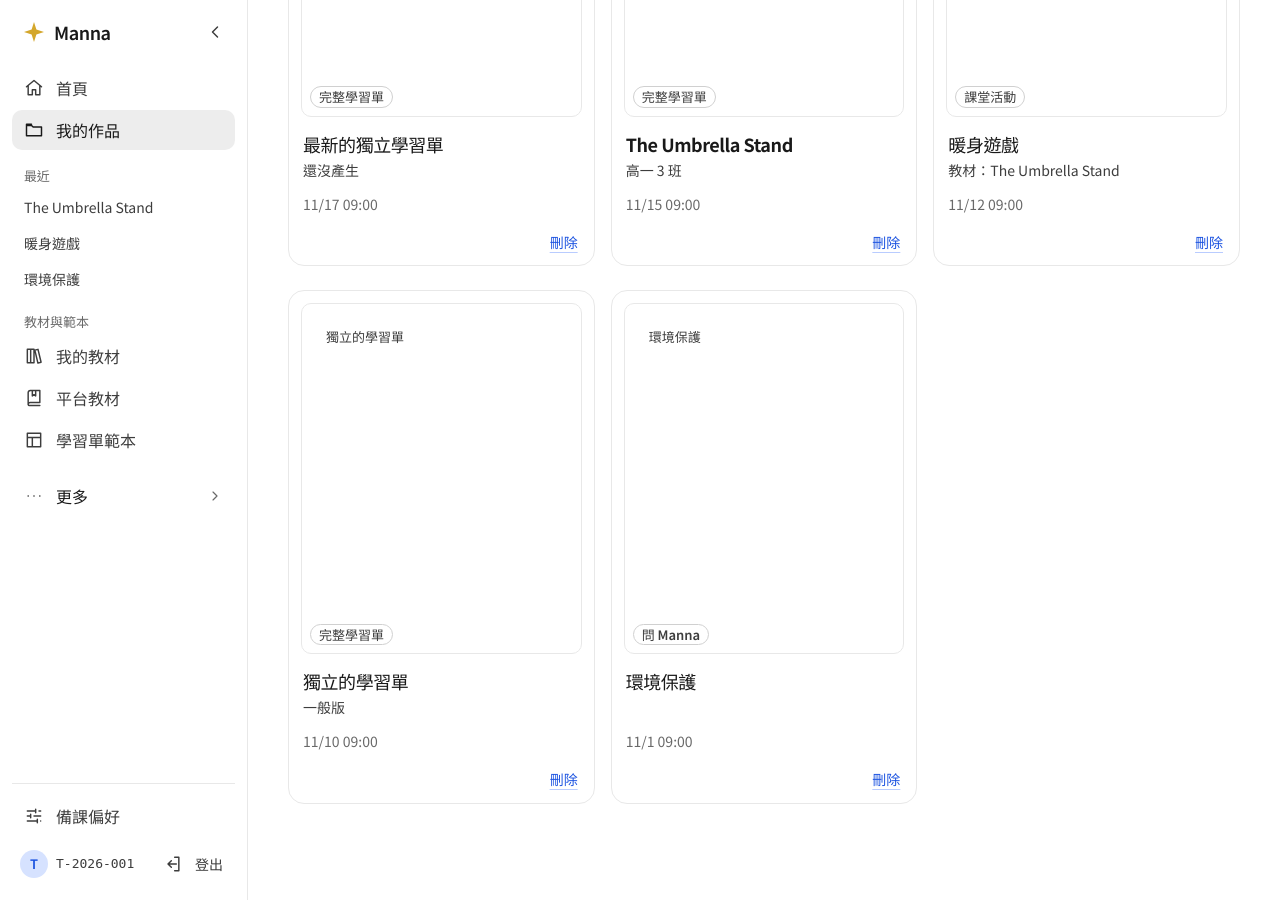
我的作品 › moves focus through the delete confirmation and says a failed delete in the row
(page scrolled)
Click the button with aria-label "刪除 獨立的學習單". click: (564, 780)
box: [550,769,578,791]
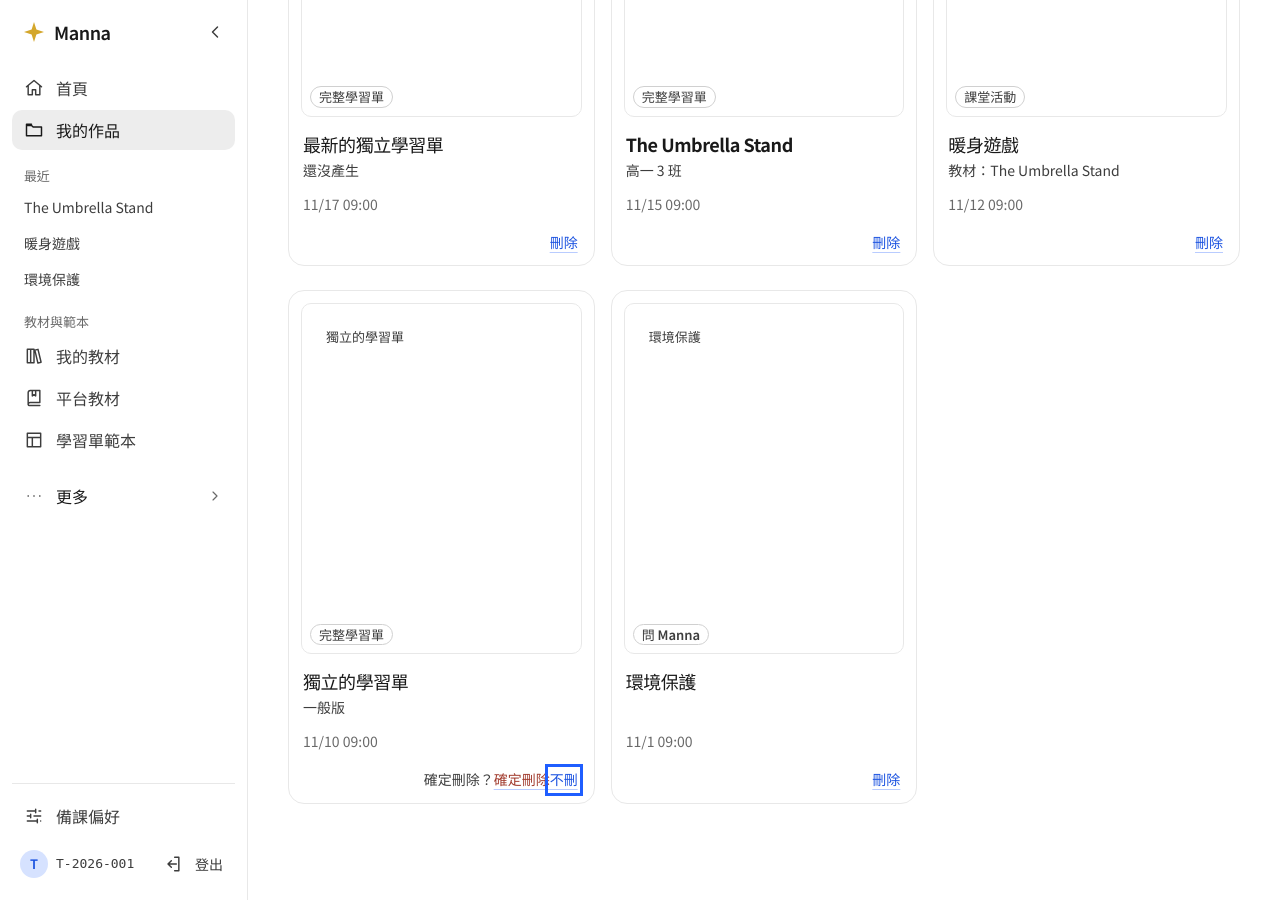
Click the button "不刪". click: (564, 780)
box: [550,769,578,791]
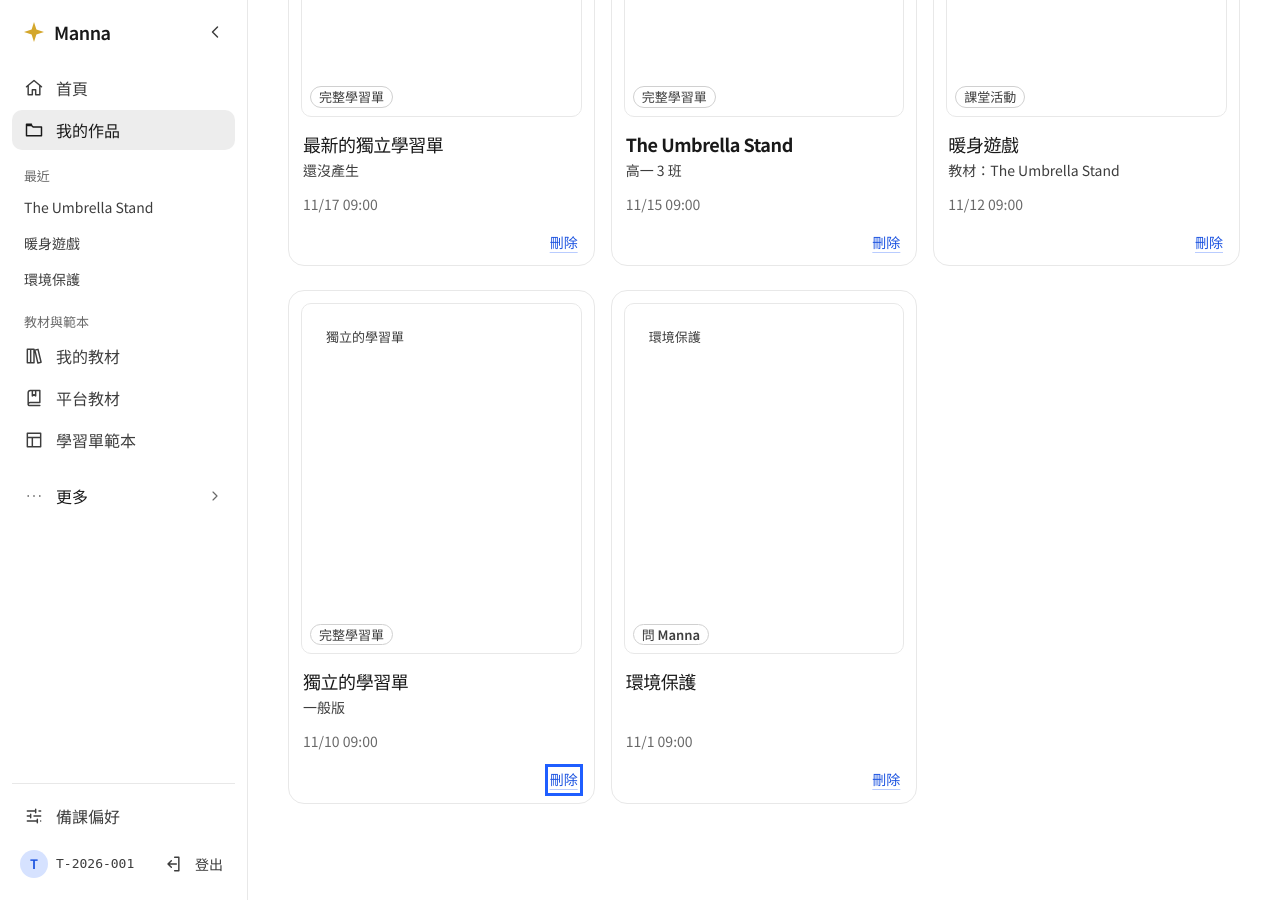
Click the button with aria-label "刪除 獨立的學習單". click: (564, 780)
box: [550,769,578,791]
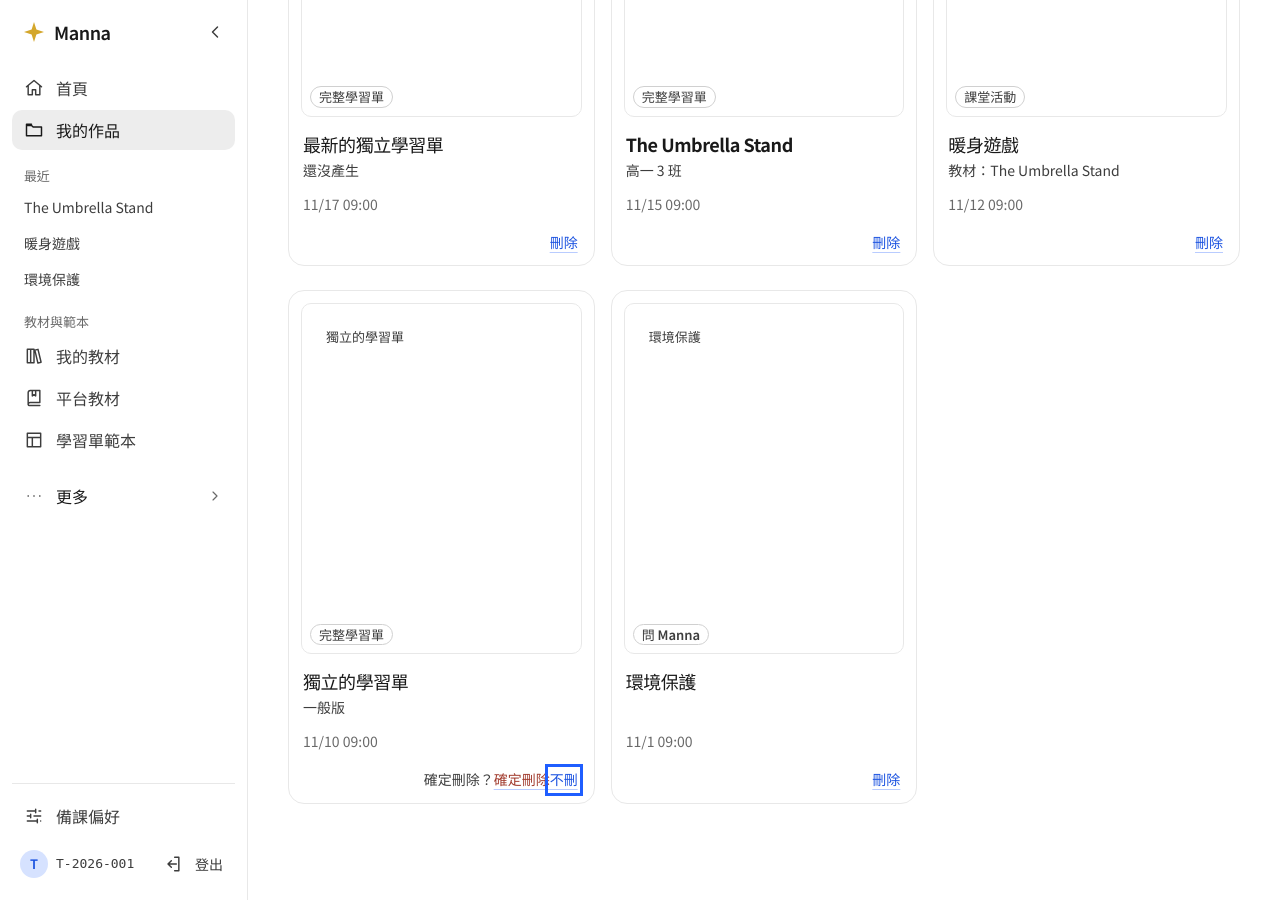
Click the button "確定刪除". click: (522, 780)
box: [494,769,550,791]
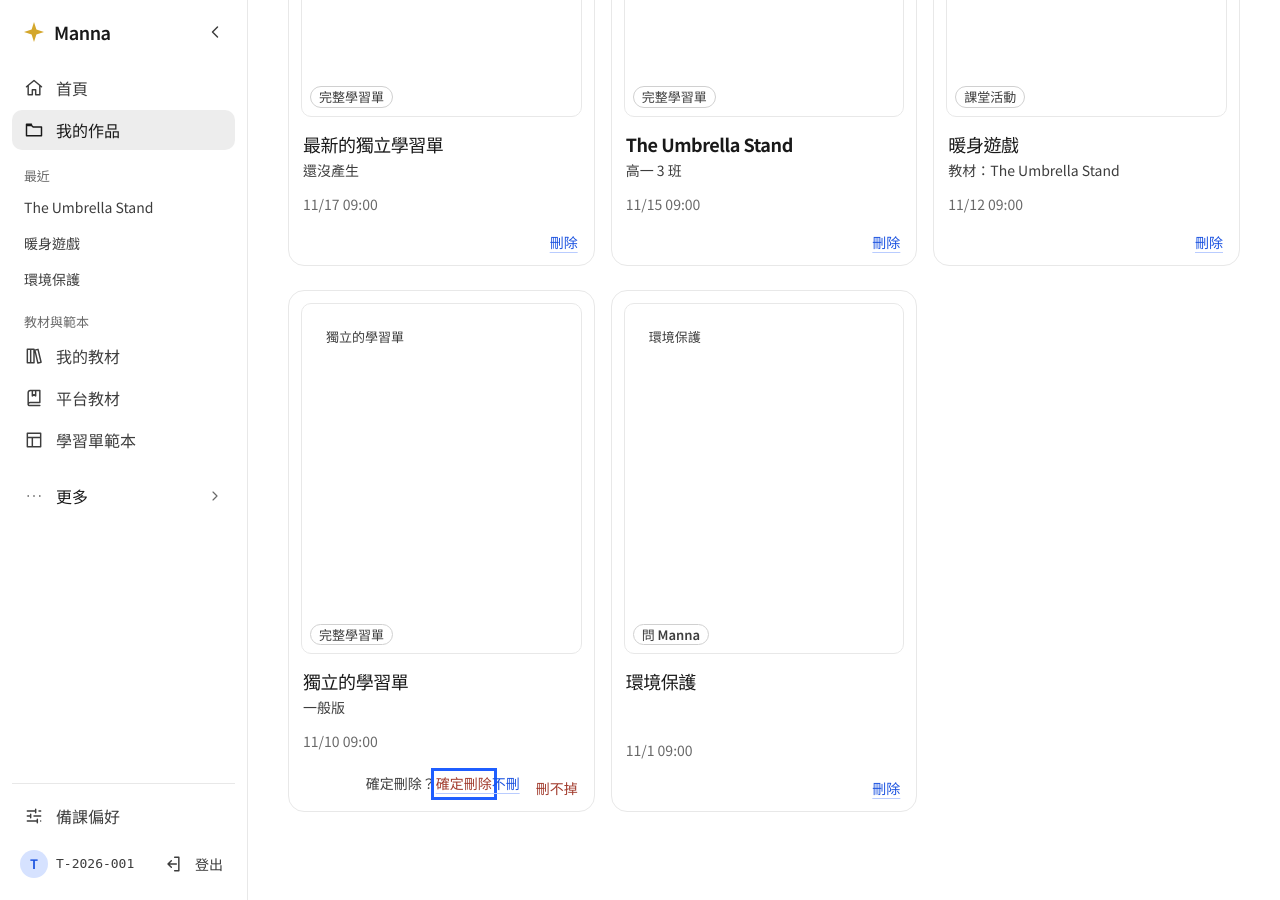
Expected: the message reads "刪不掉", [536,778,578,798]
